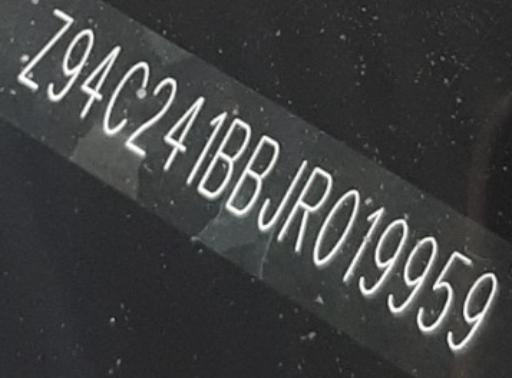letter: (439, 268, 507, 353), (413, 247, 477, 334), (14, 5, 76, 94), (194, 112, 258, 198), (276, 163, 336, 253), (221, 131, 285, 215), (302, 185, 364, 271), (382, 232, 444, 317), (123, 73, 181, 160), (40, 25, 100, 108), (252, 154, 312, 234), (330, 202, 388, 283), (98, 55, 156, 136), (356, 213, 412, 296), (154, 90, 210, 173), (178, 107, 232, 189), (72, 40, 126, 121)
